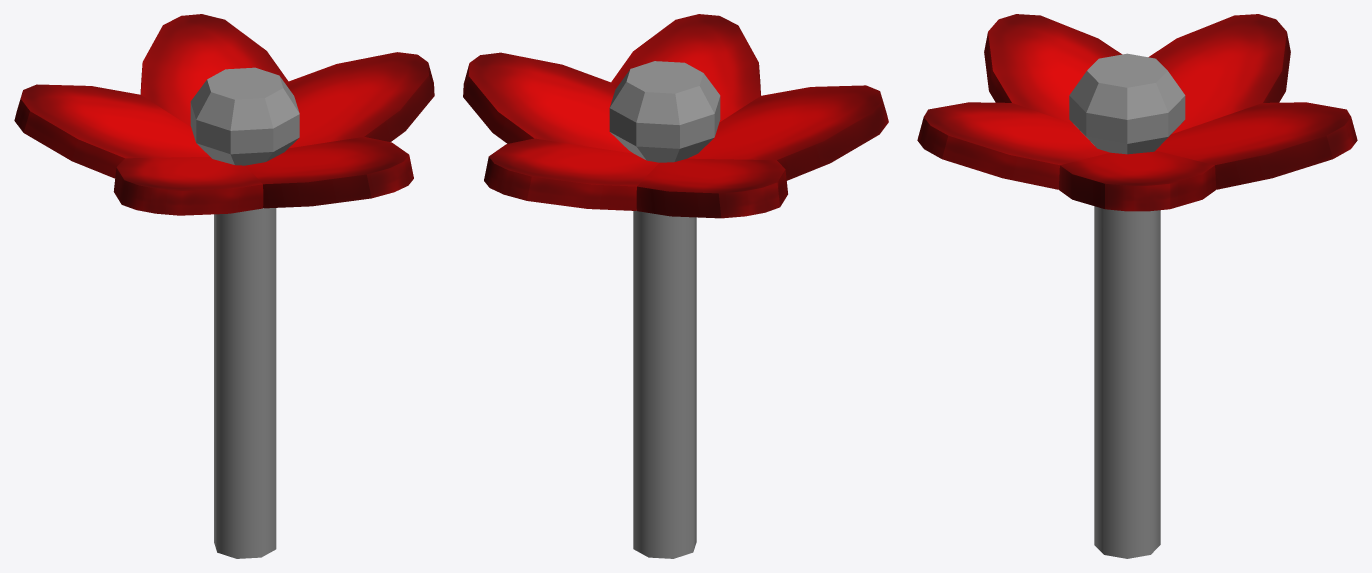
The model's file is PoppyFlower.FBX.
3 views of the same model, side by side, from view 1: azimuth 30°, elevation 25°; view 2: azimuth 150°, elevation 25°; view 3: azimuth 270°, elevation 25° (orthographic). The views are drawn at different scales.
Parts seen in each view (by area): view 1: poppy full; view 2: poppy full; view 3: poppy full.
Part boxes in pixels (<box>): poppy full: <box>14,14,434,558</box>; poppy full: <box>463,14,888,558</box>; poppy full: <box>917,14,1357,558</box>.
Bounding box in the file's own units: 6.61 × 8.2 × 6.9.
